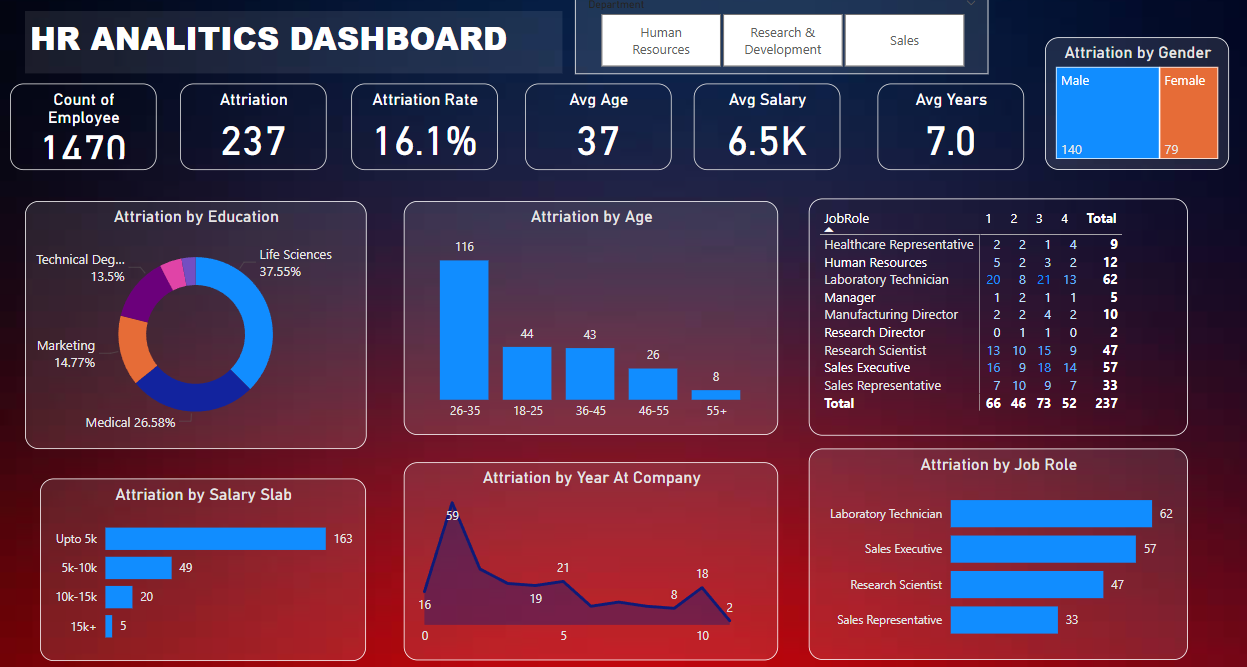

This screenshot's page, from the dashboard's own definition file:
{"tool":"powerbi","page":{"name":"Page 1","canvas":[1280,720],"ordinal":0},"visuals":[{"type":"card","title":"Count of Employee","fields":{"Values":["CountNonNull(HR_Analytics.EmpID)"]},"box":[10,115.7,150,88.6],"z":0},{"type":"card","title":"Attriation","fields":{"Values":["Sum(HR_Analytics.AttritionCount)"]},"box":[184.3,115.7,150,88.6],"z":1000},{"type":"card","title":"Avg Age","fields":{"Values":["Avg(HR_Analytics.Age)"]},"box":[538.6,115.7,150,88.6],"z":2000},{"type":"card","title":"Attriation Rate","fields":{"Values":["HR_Analytics.AttritionRate"]},"box":[360,115.7,150,88.6],"z":3000},{"type":"card","title":"Avg Salary","fields":{"Values":["Avg(HR_Analytics.MonthlyIncome)"]},"box":[711.4,115.7,150,88.6],"z":4000},{"type":"card","title":"Avg Years","fields":{"Values":["Avg(HR_Analytics.YearsAtCompany)"]},"box":[900,115.7,150,88.6],"z":5000},{"type":"donutChart","title":"Attriation by Education","fields":{"Category":["HR_Analytics.EducationField"],"Y":["Sum(HR_Analytics.AttritionCount)"]},"box":[25.7,235.7,350,254.3],"z":6000},{"type":"columnChart","title":"Attriation by Age","fields":{"Category":["HR_Analytics.AgeGroup"],"Y":["Sum(HR_Analytics.AttritionCount)"]},"box":[414.3,235.7,384.3,240],"z":7000},{"type":"pivotTable","title":"Attriation by Education","fields":{"Rows":["HR_Analytics.JobRole"],"Columns":["HR_Analytics.JobSatisfaction"],"Values":["Sum(HR_Analytics.AttritionCount)"]},"box":[830,232.9,388.6,242.9],"z":8000},{"type":"clusteredBarChart","title":"Attriation by Salary Slab","fields":{"Category":["HR_Analytics.SalarySlab"],"Y":["Sum(HR_Analytics.AttritionCount)"]},"box":[41.4,520,334.3,187.1],"z":9000},{"type":"clusteredBarChart","title":"Attriation by Job Role","fields":{"Y":["Sum(HR_Analytics.AttritionCount)"],"Category":["HR_Analytics.JobRole"]},"box":[830,490,388.6,217.1],"z":10000},{"type":"areaChart","title":"Attriation by Year At Company","fields":{"Category":["HR_Analytics.YearsAtCompany"],"Y":["Sum(HR_Analytics.AttritionCount)"]},"box":[414.3,504.3,384.3,202.9],"z":11000},{"type":"treemap","title":"Attriation by Gender","fields":{"Group":["HR_Analytics.Gender"],"Values":["Sum(HR_Analytics.AttritionCount)"]},"box":[1071.4,68.6,188.6,135.7],"z":12000},{"type":"slicer","fields":{"Values":["HR_Analytics.Department"]},"box":[590,21.4,424.3,84.3],"z":13000},{"type":"textbox","box":[25.7,41.4,551.4,64.3],"z":14000}]}

Visuals, with their boxes in screenshot pixels (x1, y1, x2, y2):
"Count of Employee" card: <bbox>3, 78, 150, 165</bbox>
"Attriation" card: <bbox>174, 78, 321, 165</bbox>
"Avg Age" card: <bbox>521, 78, 668, 165</bbox>
"Attriation Rate" card: <bbox>346, 78, 493, 165</bbox>
"Avg Salary" card: <bbox>691, 78, 838, 165</bbox>
"Avg Years" card: <bbox>876, 78, 1023, 165</bbox>
"Attriation by Education" donutChart: <bbox>19, 195, 362, 445</bbox>
"Attriation by Age" columnChart: <bbox>400, 195, 776, 431</bbox>
"Attriation by Education" pivotTable: <bbox>807, 193, 1188, 431</bbox>
"Attriation by Salary Slab" clusteredBarChart: <bbox>34, 474, 362, 657</bbox>
"Attriation by Job Role" clusteredBarChart: <bbox>807, 445, 1188, 657</bbox>
"Attriation by Year At Company" areaChart: <bbox>400, 459, 776, 657</bbox>
"Attriation by Gender" treemap: <bbox>1044, 32, 1228, 165</bbox>
slicer - HR_Analytics.Department: <bbox>572, 0, 988, 68</bbox>
textbox: <bbox>19, 5, 559, 68</bbox>
